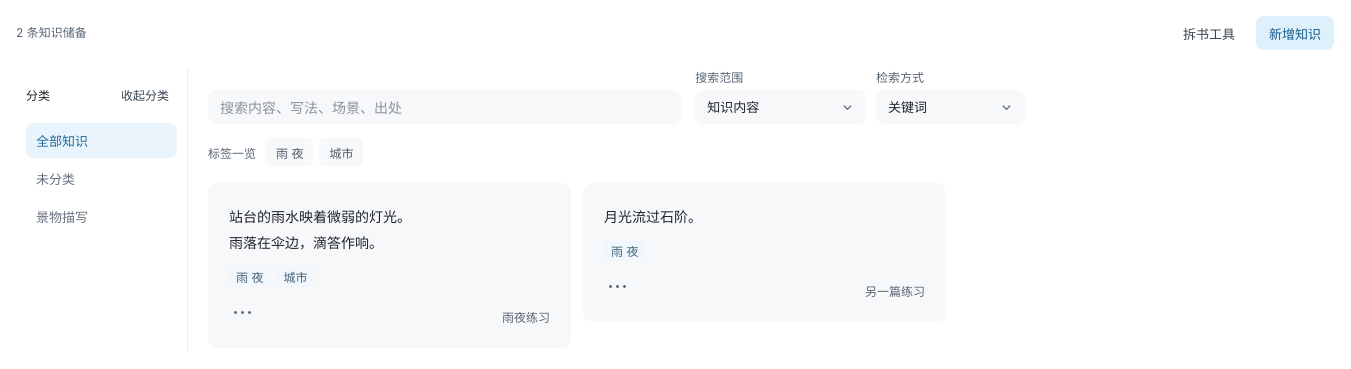
知识卡片与搜索 › 语义检索只搜索知识，旧回执不能覆盖新页
Type "旧" into the search field named "模糊搜索知识与正文" at (445, 107), box [208,90,681,124]
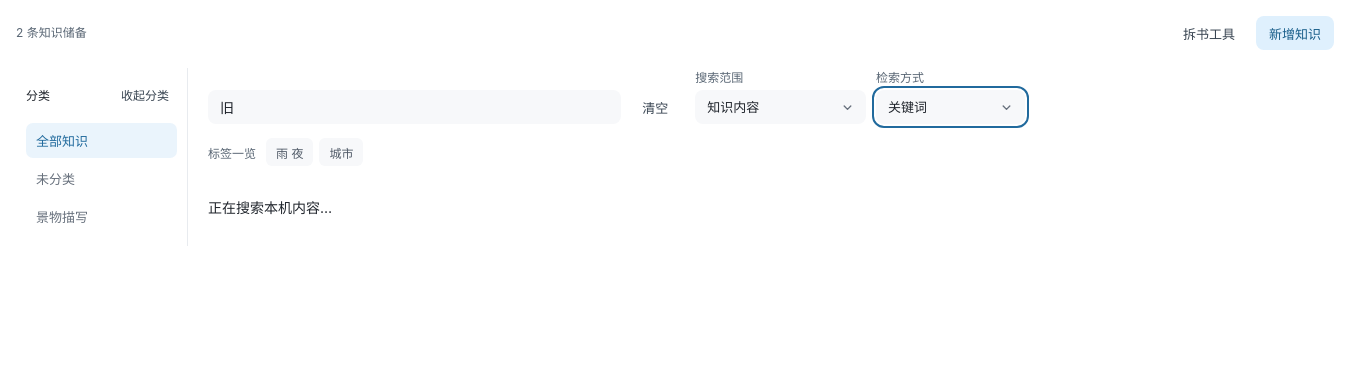
Press ArrowDown in the dropdown named "检索方式", box [876,90,1025,124]
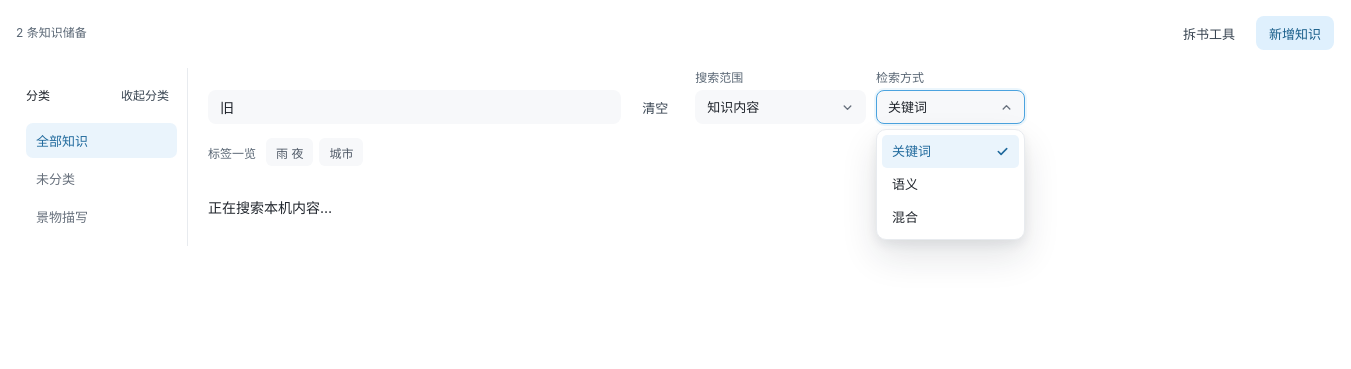
Click the option "语义" at (905, 184), box [892,176,918,192]
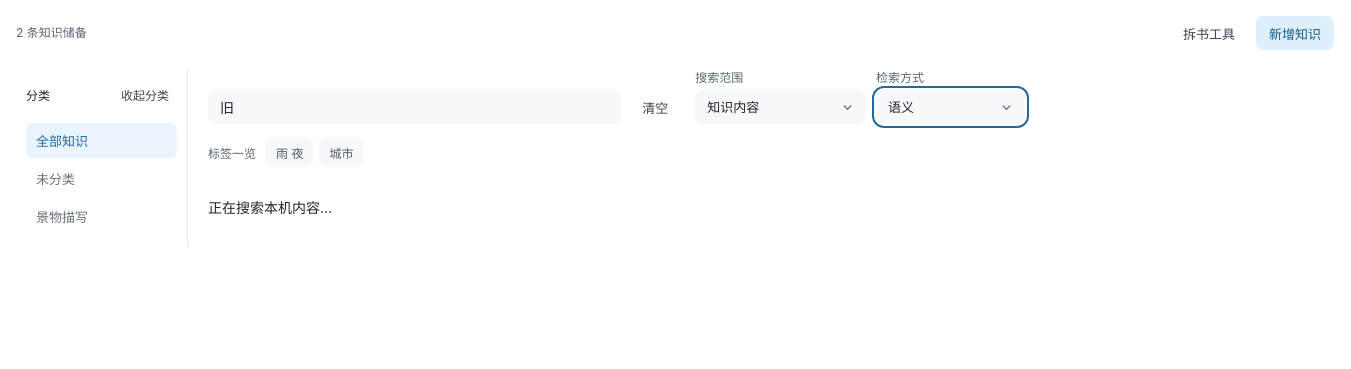
Replace the text in the search field named "模糊搜索知识与正文" with "新" at (415, 107), box [208,90,621,124]
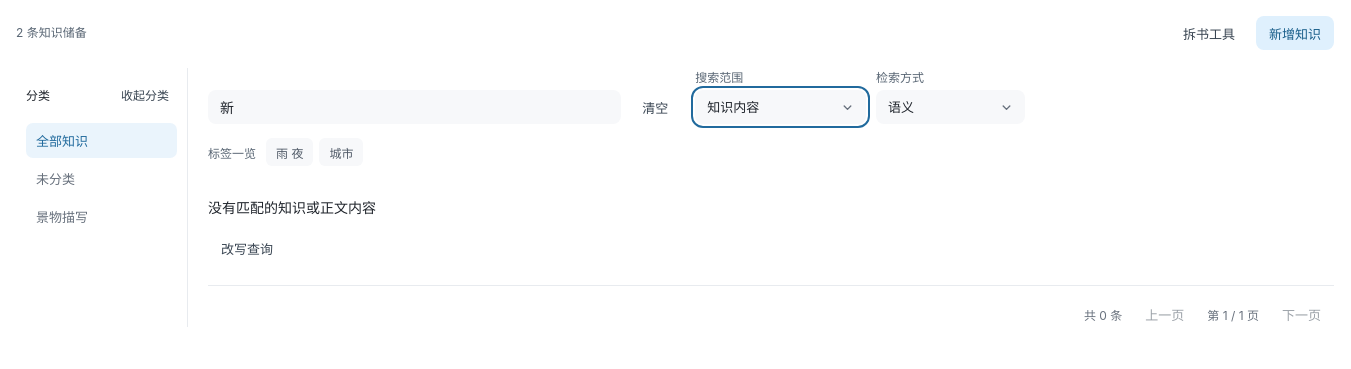
Press ArrowDown in the dropdown named "搜索范围", box [695,90,866,124]
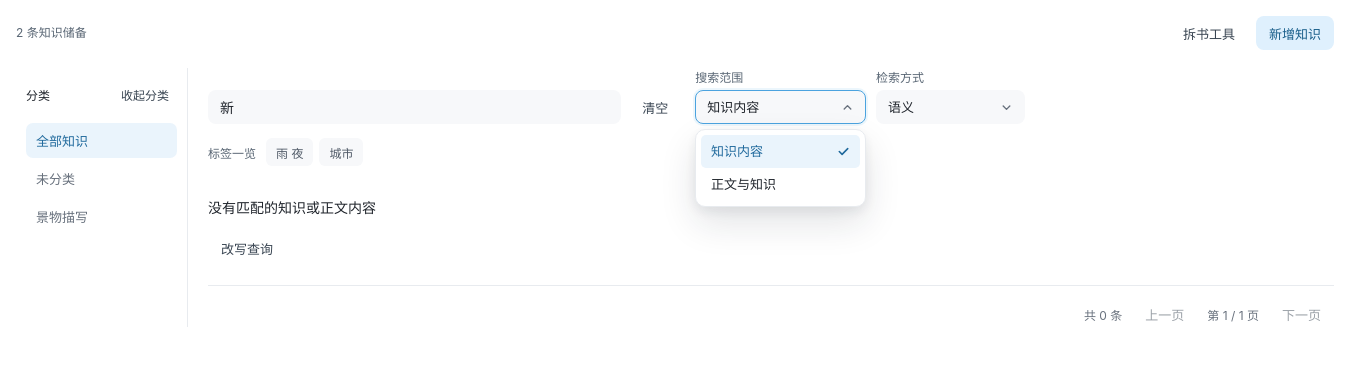
Click the option "正文与知识" at (744, 184), box [711,176,776,192]
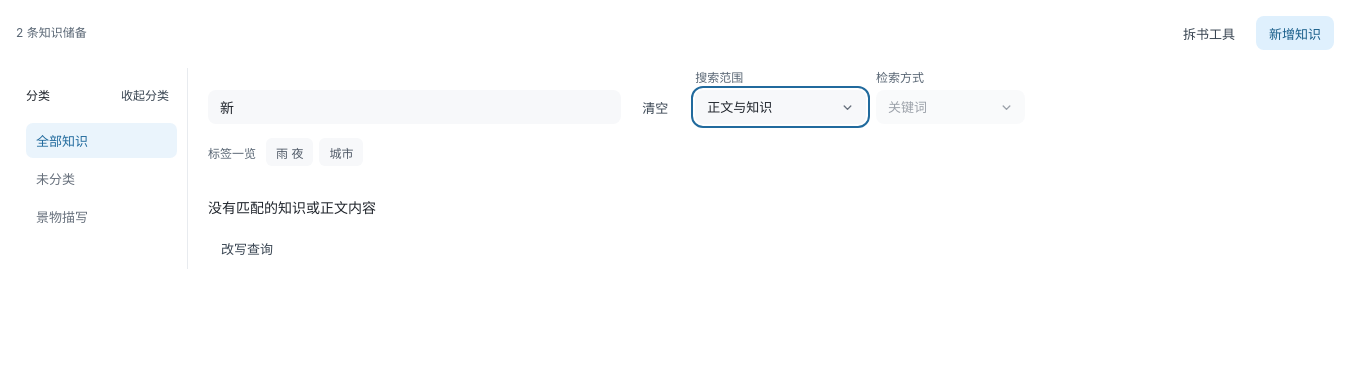
Expected: the dropdown named "检索方式" reads "关键词", [876,90,1025,124]
